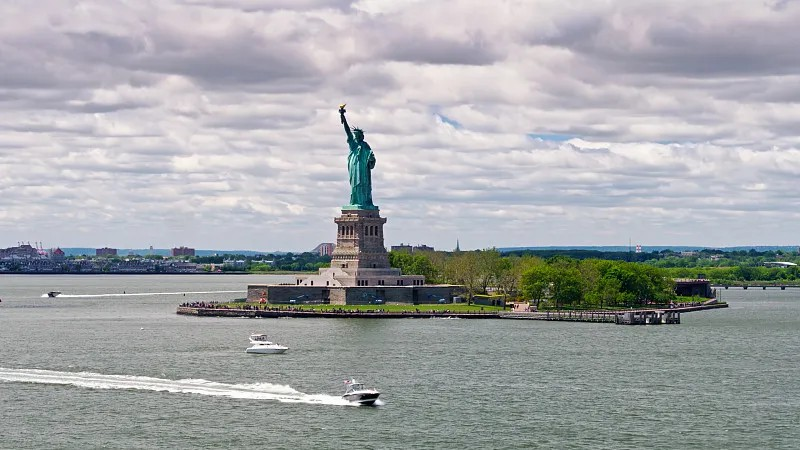SL: (330, 103, 389, 271)
